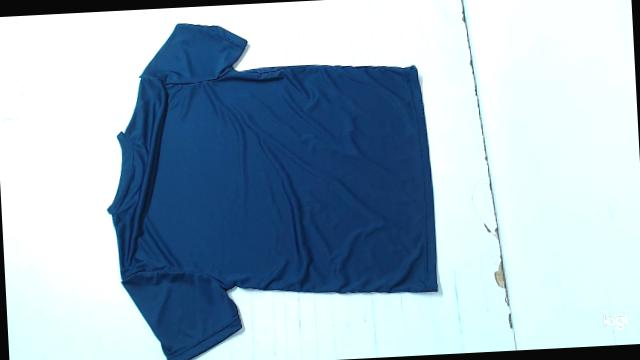new-garment: (107, 23, 437, 360)
